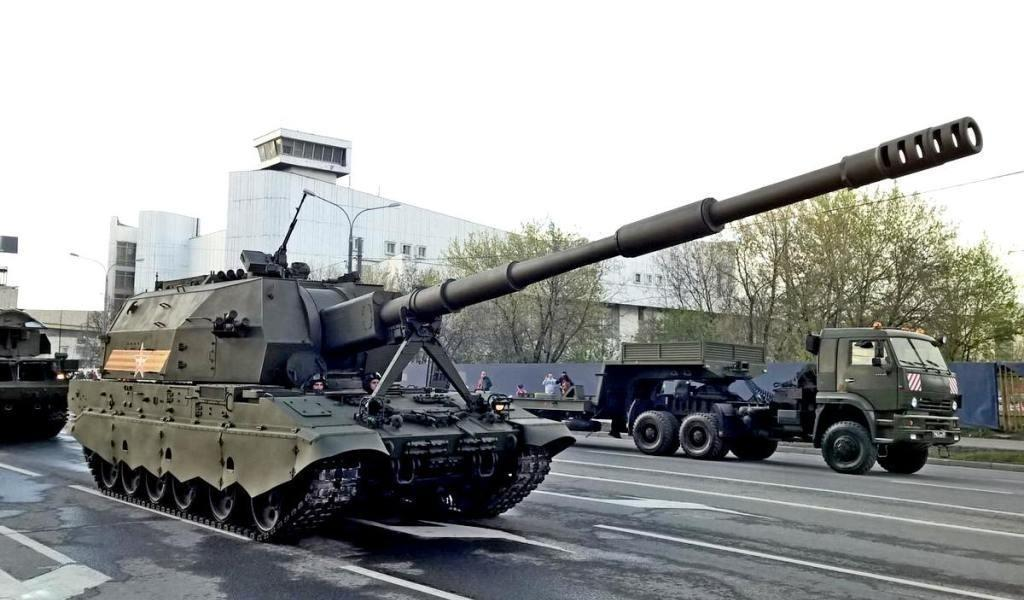sau: (56, 108, 1000, 554)
truck: (592, 325, 968, 487)
